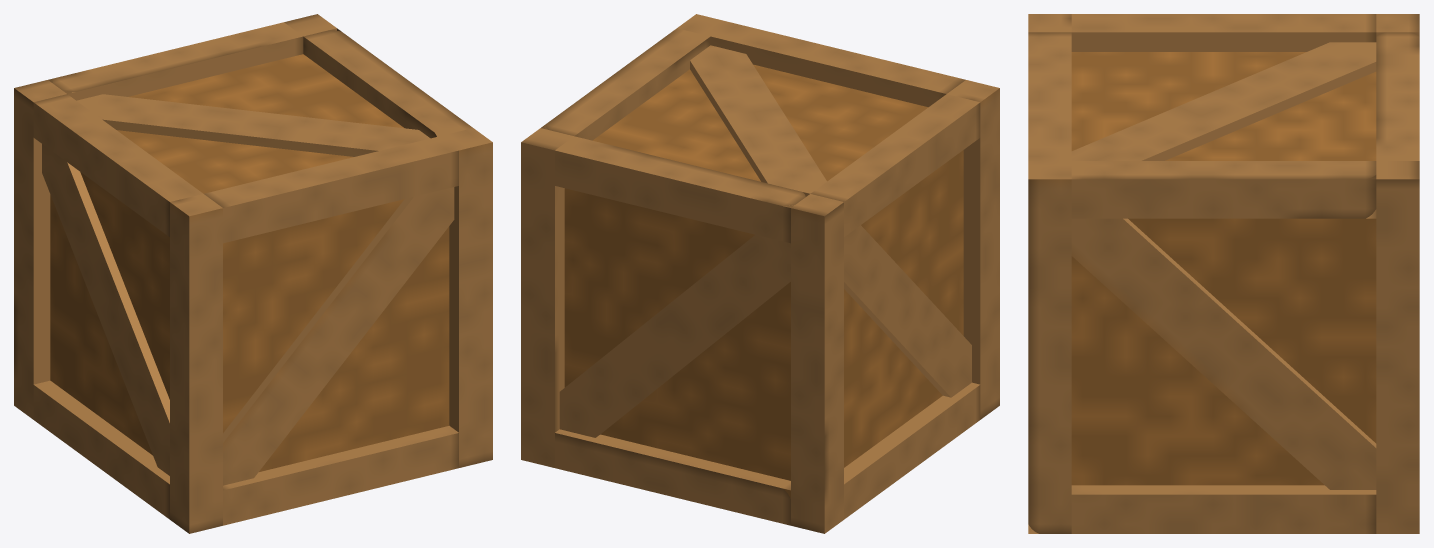
File: wood_Box.fbx
The picture shows the model from 3 angles, left to right: view 1: azimuth 30°, elevation 25°; view 2: azimuth 150°, elevation 25°; view 3: azimuth 270°, elevation 25°; orthographic projection. The views are drawn at different scales.
Parts seen in each view (by area): view 1: cube, cube_13, cube_2, cube_1, cube_5, cube_16, cube_3, cube_17, cube_8, cube_10, cube_6, cube_11 (+2 smaller); view 2: cube, cube_3, cube_15, cube_4, cube_6, cube_2, cube_7, cube_16, cube_10, cube_17, cube_5, cube_11 (+2 smaller); view 3: cube, cube_14, cube_9, cube_1, cube_4, cube_12, cube_17, cube_10, cube_5, cube_6, cube_3, cube_2.
Part boxes in pixels (x1,y1,x2,y2): cube: [50, 54, 449, 471]; cube_13: [223, 187, 454, 485]; cube_2: [170, 194, 222, 533]; cube_1: [440, 128, 492, 467]; cube_5: [204, 136, 458, 243]; cube_16: [42, 144, 169, 475]; cube_3: [14, 80, 66, 419]; cube_17: [72, 92, 439, 156]; cube_8: [223, 425, 458, 525]; cube_10: [33, 94, 203, 236]; cube_6: [48, 22, 303, 100]; cube_11: [33, 380, 169, 519]; cube: [564, 64, 963, 498]; cube_3: [791, 194, 843, 533]; cube_15: [559, 235, 790, 437]; cube_4: [521, 128, 573, 467]; cube_6: [555, 136, 809, 243]; cube_2: [947, 80, 999, 419]; cube_7: [555, 429, 790, 525]; cube_16: [844, 225, 971, 397]; cube_10: [810, 94, 980, 236]; cube_17: [690, 45, 826, 207]; cube_5: [710, 22, 965, 107]; cube_11: [844, 382, 980, 519]; cube: [1071, 52, 1376, 485]; cube_14: [1071, 218, 1376, 489]; cube_9: [1071, 161, 1376, 218]; cube_1: [1028, 161, 1071, 533]; cube_4: [1376, 161, 1419, 533]; cube_12: [1071, 485, 1376, 533]; cube_17: [1071, 42, 1376, 160]; cube_10: [1071, 14, 1376, 51]; cube_5: [1028, 32, 1071, 160]; cube_6: [1376, 32, 1419, 160]; cube_3: [1376, 14, 1419, 36]; cube_2: [1028, 14, 1071, 32].
Bounding box in the file's own units: 112 × 112 × 112.
Materials: 1 (1 with a texture image).
